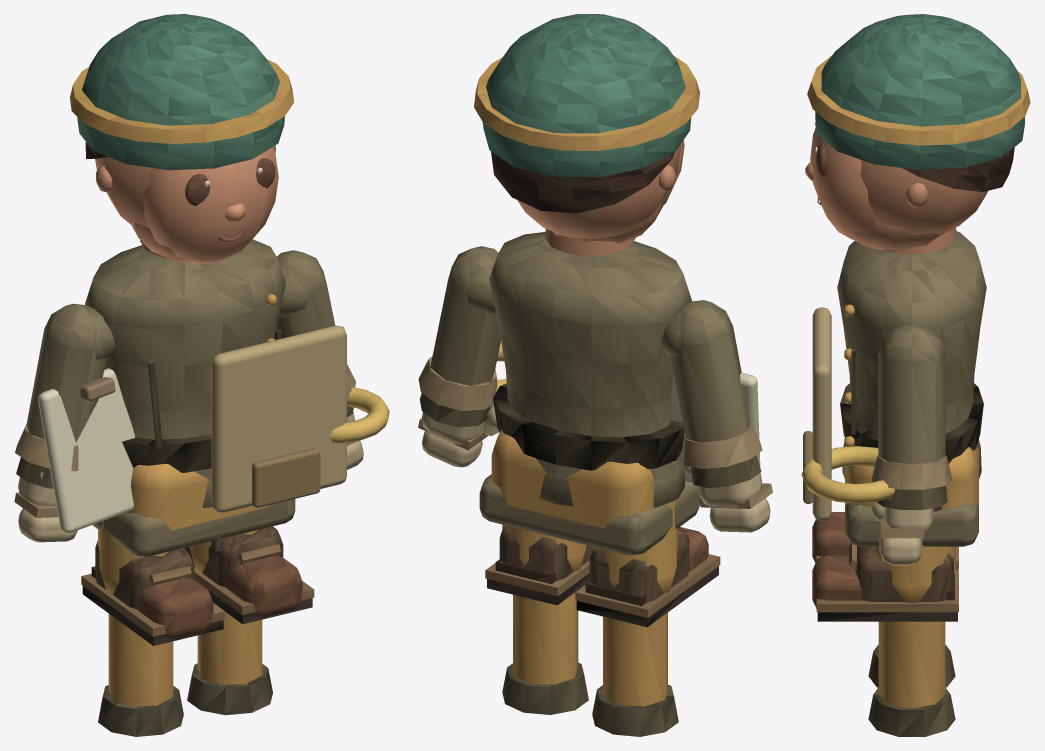
File: han-seojun.m1.glb
3 views of the same model, side by side, from view 1: azimuth 30°, elevation 25°; view 2: azimuth 150°, elevation 25°; view 3: azimuth 270°, elevation 25° (orthographic).
Visible parts, largest first — view 1: coat, legs, hat, sortingApron, figureDetail, cooperativeLedger, armLeftMesh, trousers, armRightMesh, handLeftMesh, sortingApronPocket, qualitySampleRing (+1 smaller); view 2: coat, legs, hat, armLeftMesh, figureDetail, armRightMesh, trousers, handLeftMesh, handRightMesh, cooperativeLedger, neck; view 3: hat, coat, legs, figureDetail, armRightMesh, handRightMesh, sortingApron, qualitySampleRing, trousers, neck, sortingApronPocket.
Boxes of the visible parts, <box> form: coat: <box>85,239,295,556</box>; legs: <box>81,521,314,736</box>; hat: <box>70,14,294,170</box>; sortingApron: <box>211,325,346,512</box>; figureDetail: <box>85,142,278,263</box>; cooperativeLedger: <box>38,368,135,533</box>; armLeftMesh: <box>16,303,115,488</box>; trousers: <box>127,463,268,551</box>; armRightMesh: <box>276,250,353,417</box>; handLeftMesh: <box>14,424,78,542</box>; sortingApronPocket: <box>252,448,320,507</box>; qualitySampleRing: <box>329,387,389,443</box>; coat: <box>479,232,699,555</box>; legs: <box>485,461,720,736</box>; hat: <box>474,14,699,177</box>; armLeftMesh: <box>661,300,761,487</box>; figureDetail: <box>491,140,684,243</box>; armRightMesh: <box>419,246,500,427</box>; trousers: <box>491,429,686,528</box>; handLeftMesh: <box>682,423,772,532</box>; handRightMesh: <box>418,356,498,467</box>; cooperativeLedger: <box>671,372,760,484</box>; neck: <box>545,229,635,256</box>; hat: <box>807,14,1030,170</box>; coat: <box>837,231,986,546</box>; legs: <box>812,512,958,736</box>; figureDetail: <box>805,122,1014,250</box>; armRightMesh: <box>877,324,947,509</box>; handRightMesh: <box>871,456,952,565</box>; sortingApron: <box>812,307,831,521</box>; qualitySampleRing: <box>801,446,894,503</box>; trousers: <box>845,447,978,510</box>; neck: <box>883,227,956,254</box>; sortingApronPocket: <box>803,431,812,503</box>.
Bounding box in the file's own units: 1.11 × 2.2 × 0.6631.
